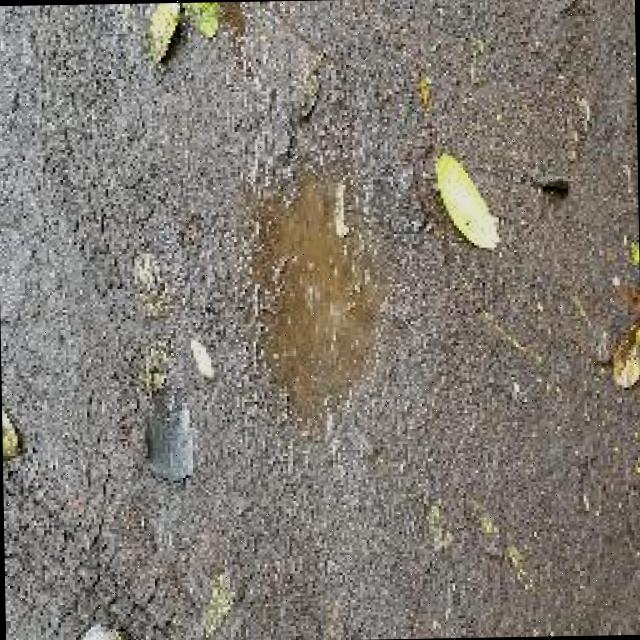stagnation: (247, 146, 393, 418)
